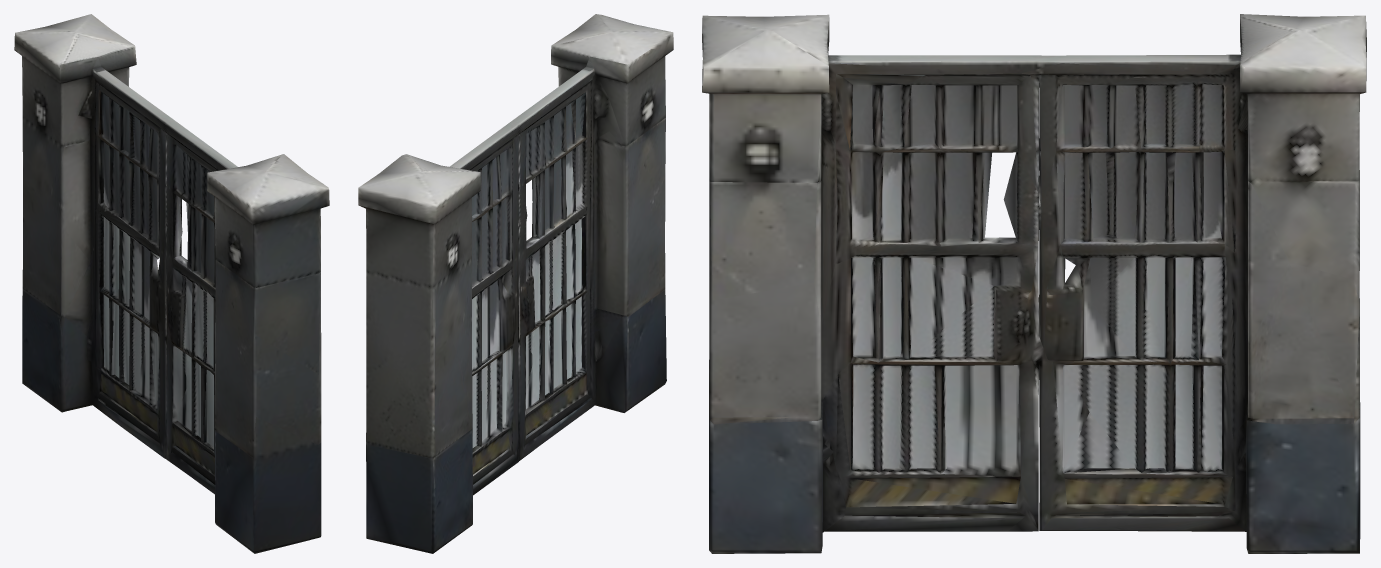
File: tripo_convert_6ac44723-a1e9-425e-9b0f-5040d74416a9.fbx
3 renders of one model, left to right at view 1: azimuth 30°, elevation 25°; view 2: azimuth 150°, elevation 25°; view 3: azimuth 270°, elevation 25°, orthographic. The views are drawn at different scales.
Parts seen in each view (by area): view 1: tripo_node_6ac44723; view 2: tripo_node_6ac44723; view 3: tripo_node_6ac44723.
Boxes of the visible parts, left/top/right/bottom form: tripo_node_6ac44723: left=14, top=14, right=329, bottom=553; tripo_node_6ac44723: left=358, top=14, right=673, bottom=553; tripo_node_6ac44723: left=702, top=14, right=1366, bottom=553.
Size of the model in its own units: 0.1871 by 0.8308 by 1.
Materials: 1 (1 with a texture image).
